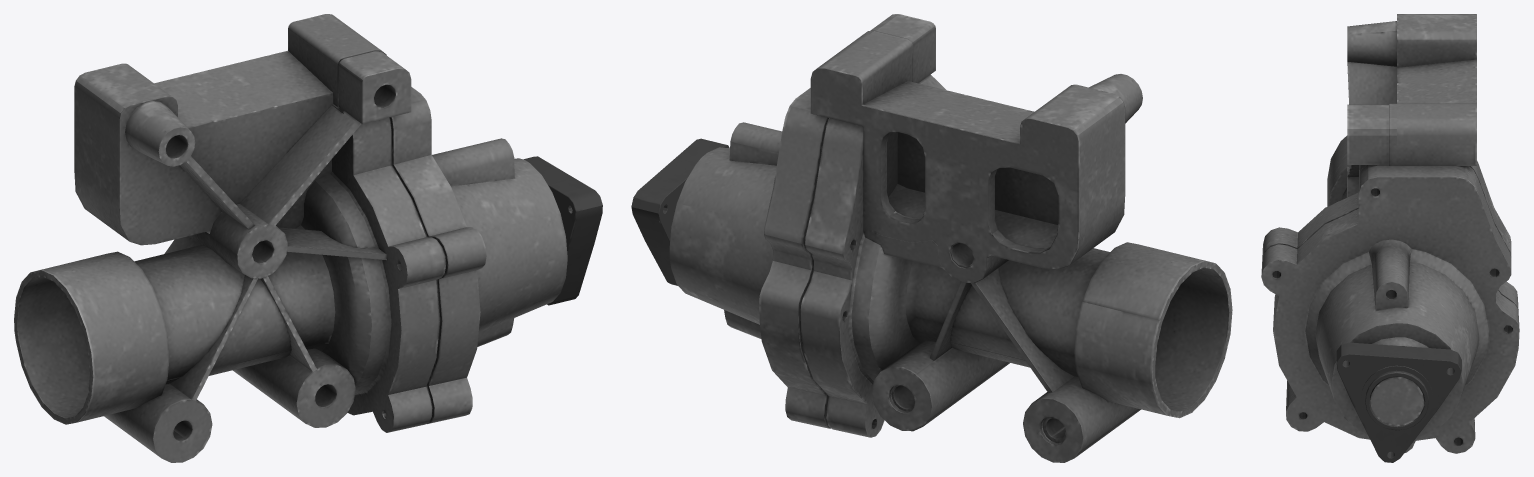
Rendered from pompa.fbx.
3 views of the same model, side by side, from view 1: azimuth 30°, elevation 25°; view 2: azimuth 150°, elevation 25°; view 3: azimuth 270°, elevation 25° (orthographic). The views are drawn at different scales.
Parts seen in each view (by area): view 1: nasos, detail; view 2: nasos, detail; view 3: nasos, detail.
Part boxes in pixels (box(x1,y1,x2,y2)): nasos: box(14, 14, 567, 462); detail: box(524, 156, 602, 305); nasos: box(669, 14, 1232, 462); detail: box(631, 138, 729, 285); nasos: box(1261, 14, 1519, 453); detail: box(1336, 342, 1461, 462).
Bounding box in the file's own units: 19.05 × 12.68 × 9.3.
Materials: 1 (1 with a texture image).
